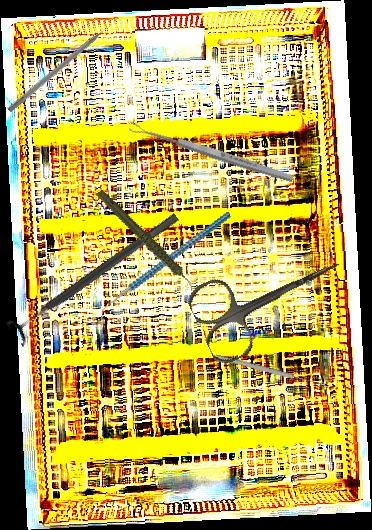Chopper: (80, 211, 250, 323)
Fixation Ring: (4, 203, 187, 349)
Handpiece: (95, 174, 196, 309)
Iris Scissors: (183, 227, 358, 369)
Pusher: (6, 17, 120, 115)
Surgical Spoon: (128, 120, 295, 185), (215, 353, 327, 389)
